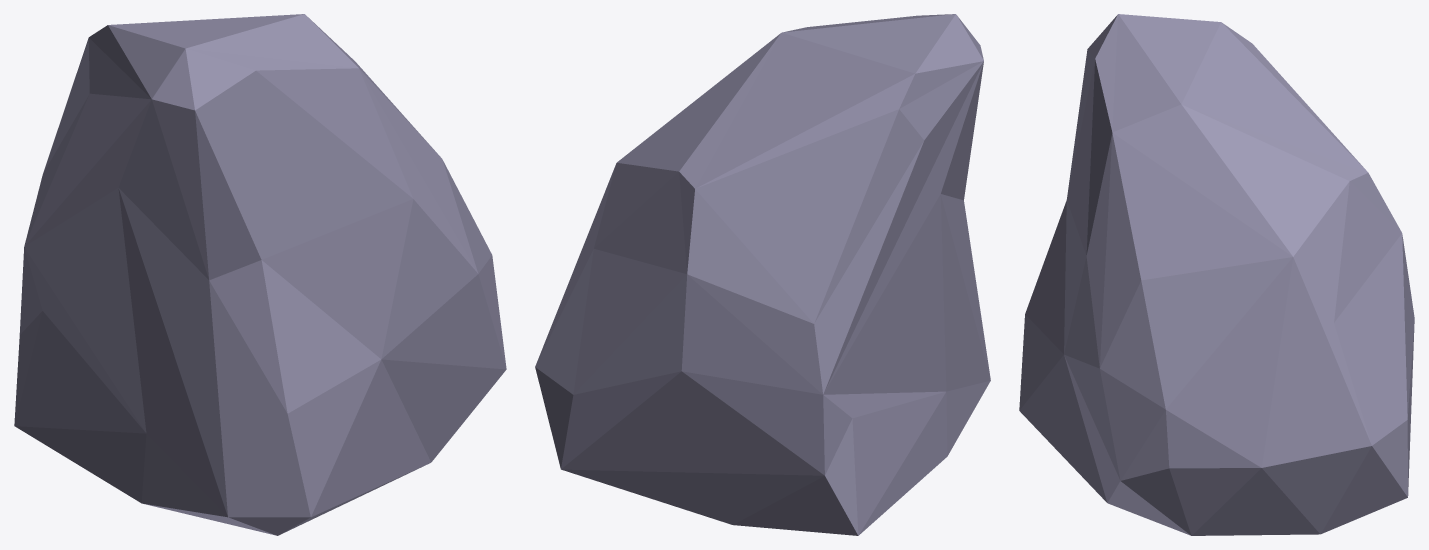
File: rochagrande.fbx
The picture shows the model from 3 angles, left to right: view 1: azimuth 30°, elevation 25°; view 2: azimuth 150°, elevation 25°; view 3: azimuth 270°, elevation 25°; orthographic projection. The views are drawn at different scales.
Visible parts, largest first — view 1: rochedo; view 2: rochedo; view 3: rochedo.
Boxes of the visible parts, x1=… form: rochedo: x1=14, y1=14, x2=506, y2=535; rochedo: x1=535, y1=14, x2=990, y2=535; rochedo: x1=1019, y1=14, x2=1414, y2=535.
Size of the model in its own units: 45.28 by 56.92 by 48.81.
